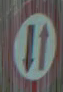Two way: (12, 5, 57, 82)
